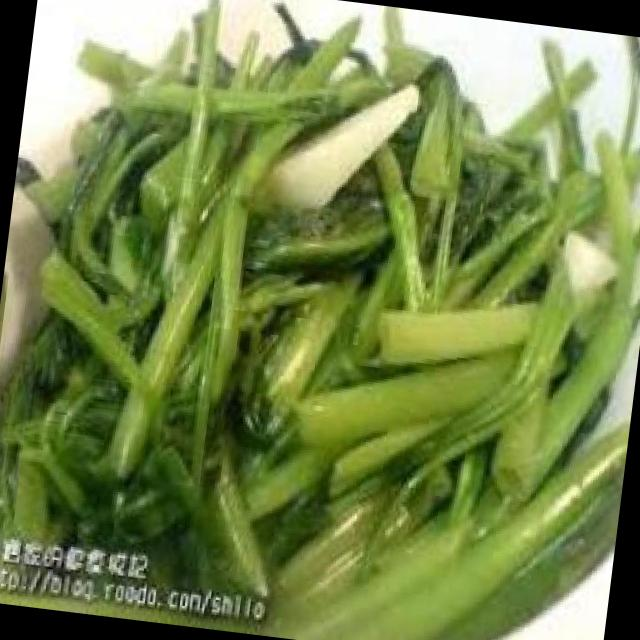water_spinach: (0, 37, 598, 594)
